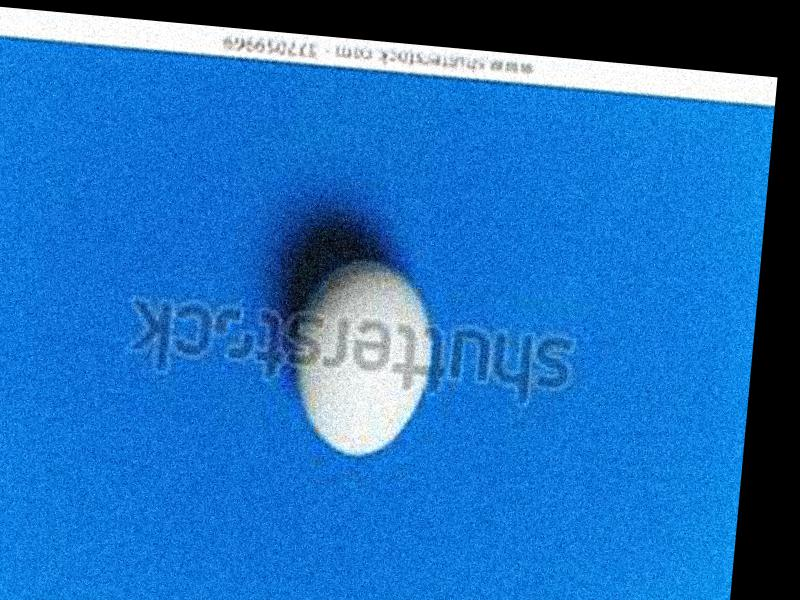Eggs: (287, 255, 436, 467)
